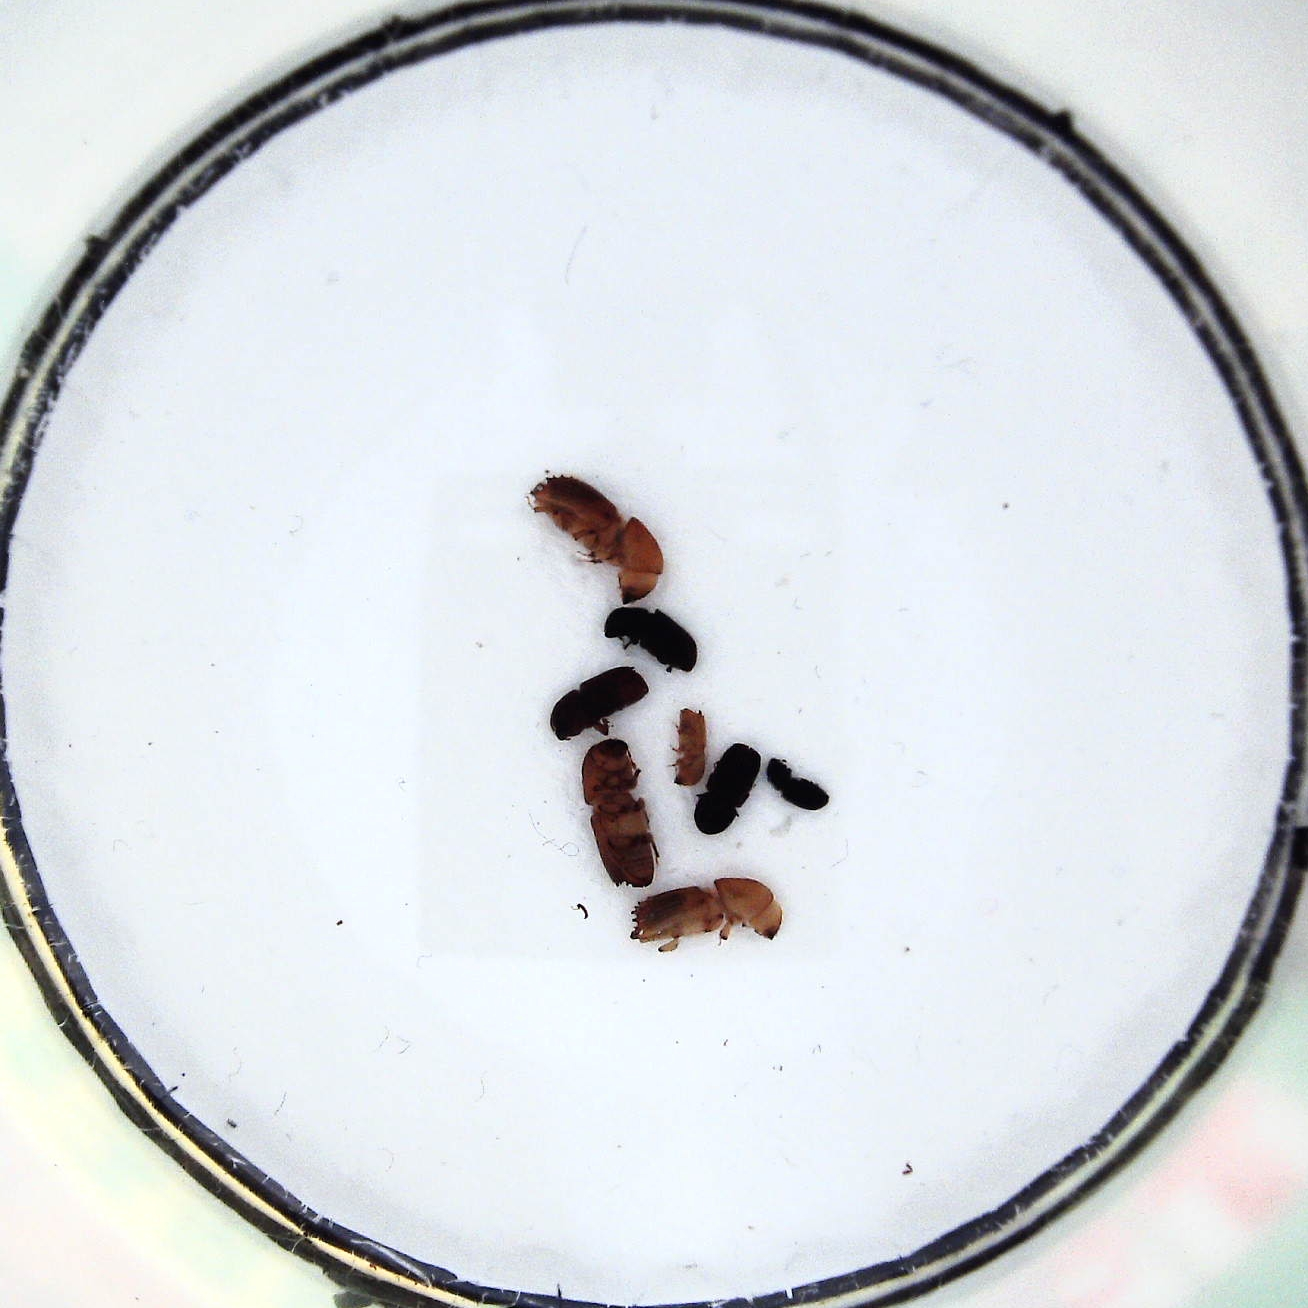Boerner: (525, 471, 665, 608), (582, 738, 664, 886), (629, 878, 785, 951)
Linnaeus: (546, 665, 650, 741), (694, 741, 761, 834)
acuminatus: (668, 702, 711, 785)
armandi: (602, 602, 697, 678)
coleoptera: (767, 756, 830, 810)
